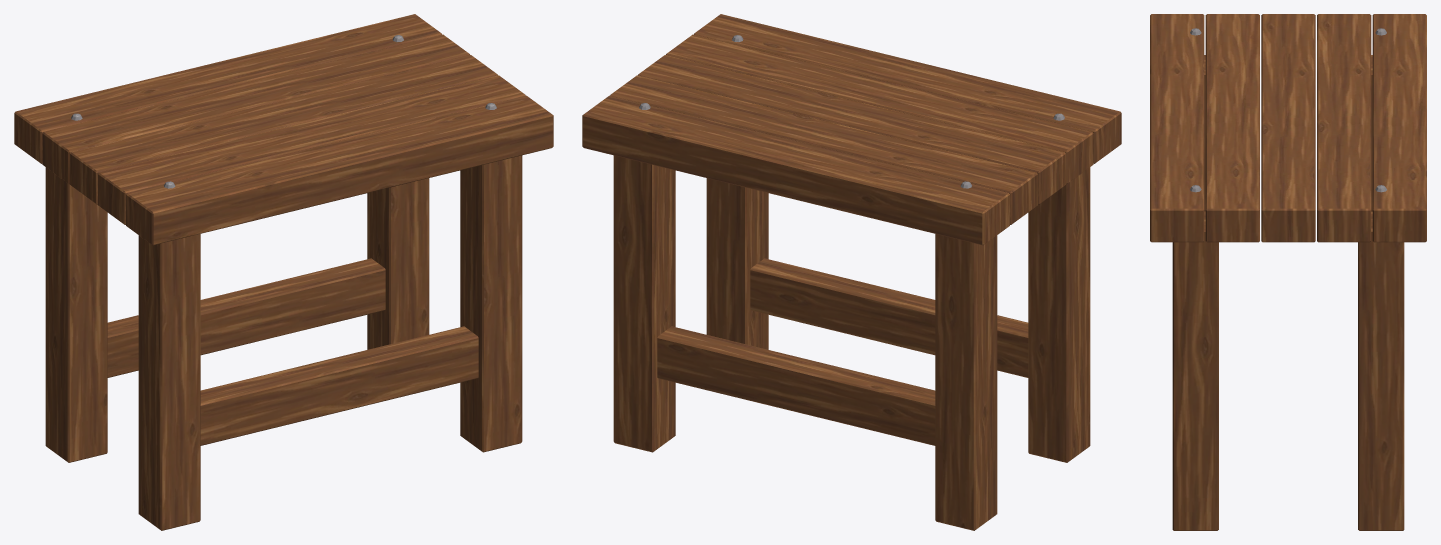
The picture shows the model from 3 angles, left to right: view 1: azimuth 30°, elevation 25°; view 2: azimuth 150°, elevation 25°; view 3: azimuth 270°, elevation 25°; orthographic projection.
Parts seen in each view (by area): view 1: source; view 2: source; view 3: source.
Part boxes in pixels (<box>): source: <box>14,14,553,530</box>; source: <box>582,14,1121,530</box>; source: <box>1150,14,1426,530</box>.
Size of the model in its own units: 1 by 0.8 by 0.597.
Materials: 2 (2 with a texture image).
